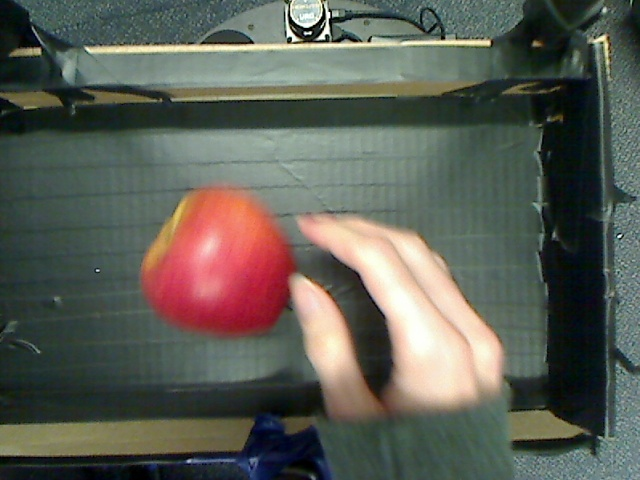apple: (112, 189, 325, 352)
